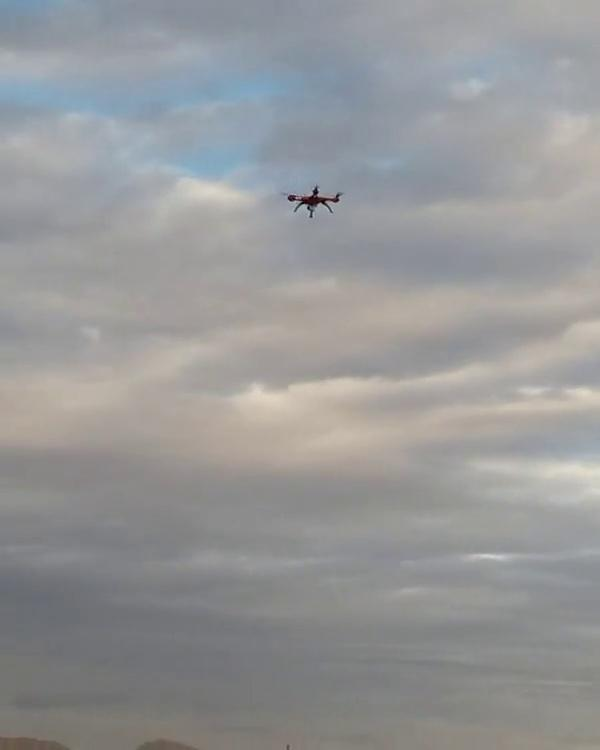drone: (281, 179, 349, 218)
